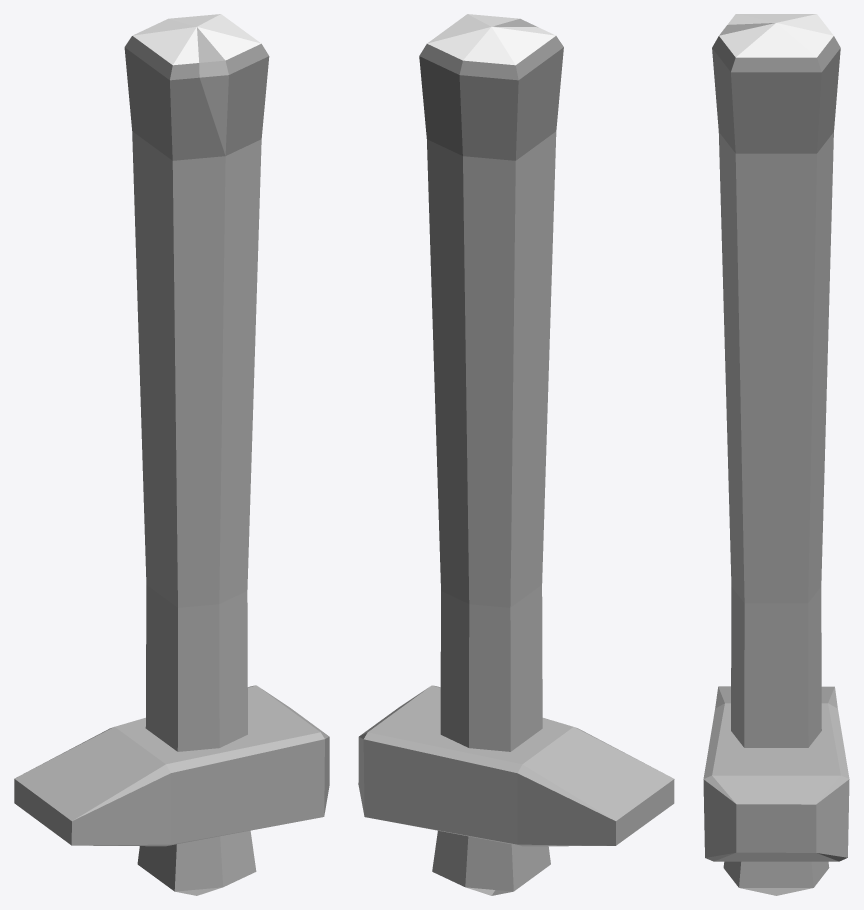
File: PT_Hammer_02.fbx
3 views of the same model, side by side, from view 1: azimuth 30°, elevation 25°; view 2: azimuth 150°, elevation 25°; view 3: azimuth 270°, elevation 25° (orthographic).
Visible parts, largest first — view 1: PT_Hammer_02; view 2: PT_Hammer_02; view 3: PT_Hammer_02.
Boxes of the visible parts, bbox=[...] form: PT_Hammer_02: bbox=[14, 14, 329, 895]; PT_Hammer_02: bbox=[358, 14, 674, 895]; PT_Hammer_02: bbox=[703, 14, 849, 895].
Size of the model in its own units: 11.37 by 35.35 by 5.36.
1 material, 1 textured.
